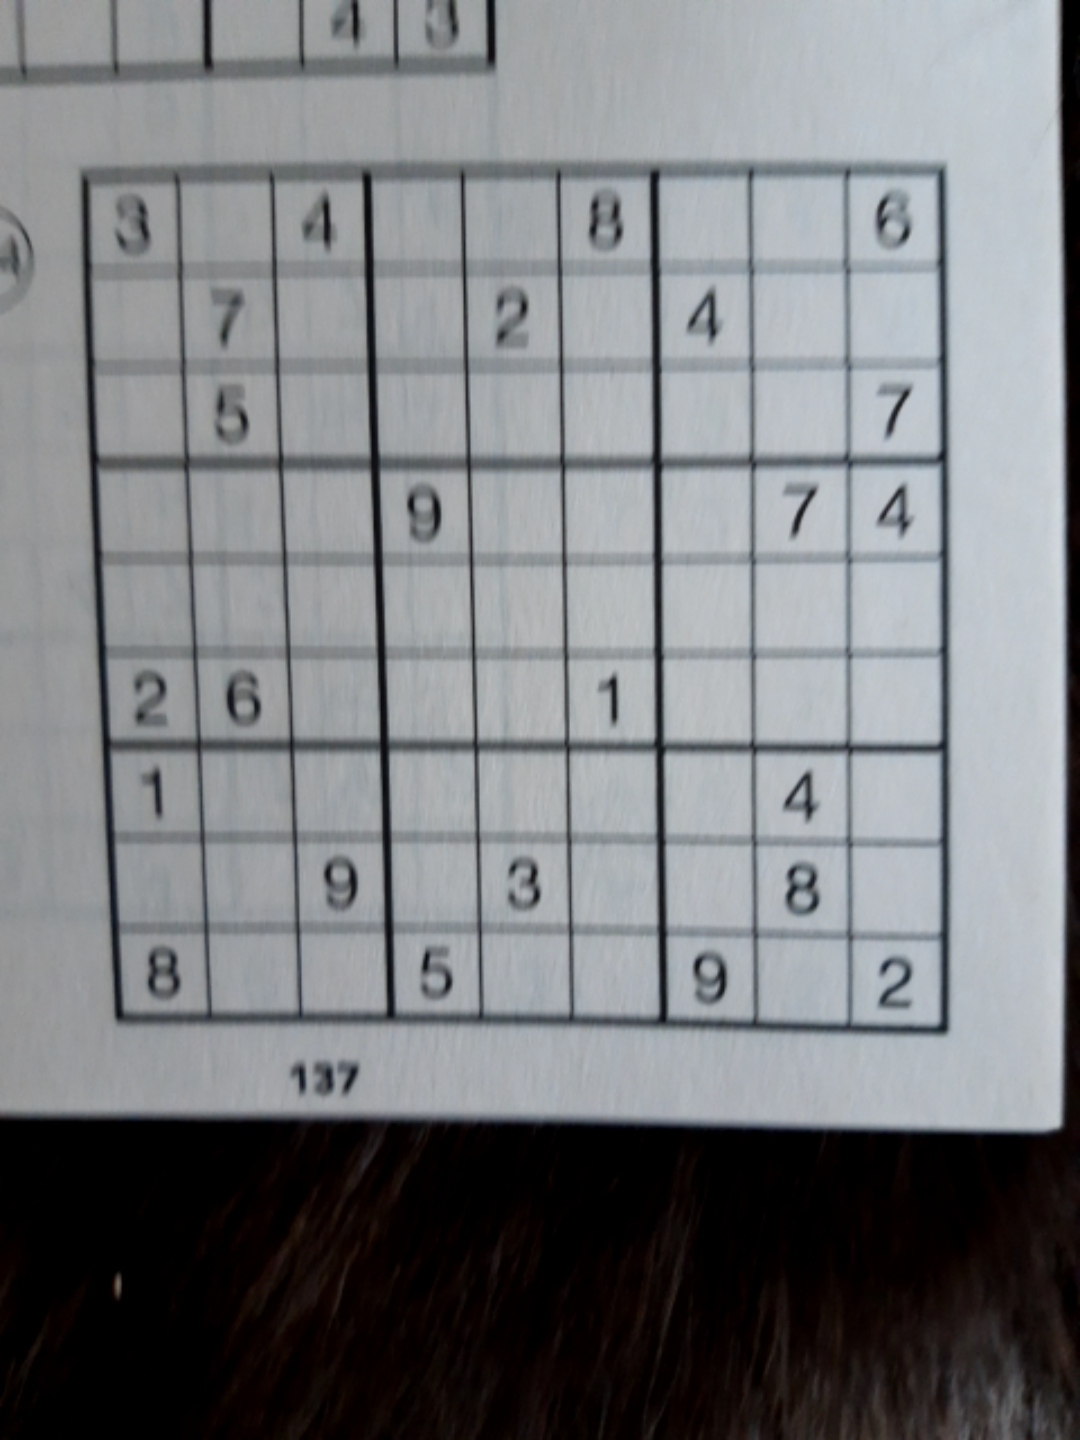sudoku: (60, 154, 953, 1042)
